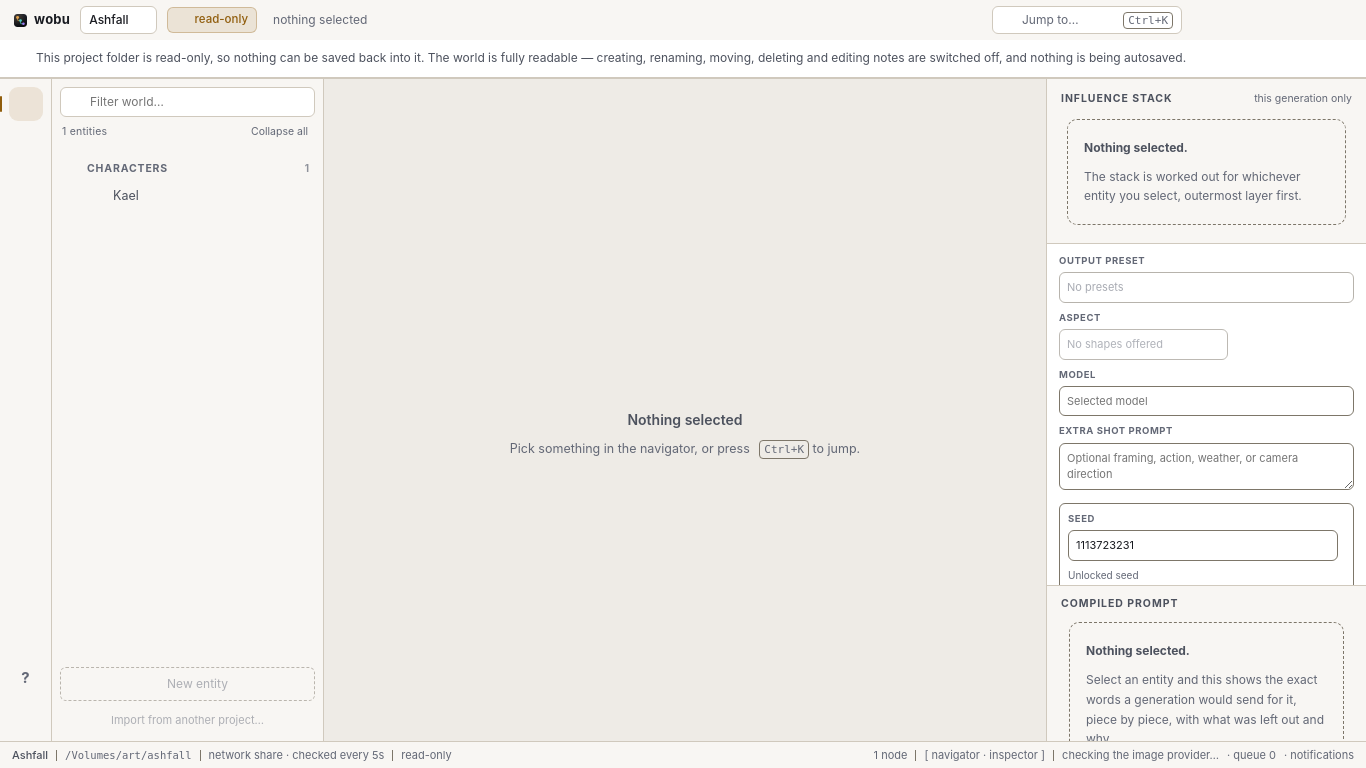
the write controls, on a read-only folder › drops the commands that write from the palette, rather than greying them
Expected: the button "Kael" is shown, x1=60 y1=183 x2=315 y2=211
Click the button "Jump to… Ctrl+K".
click(1087, 20)  # box x1=992 y1=6 x2=1182 y2=34
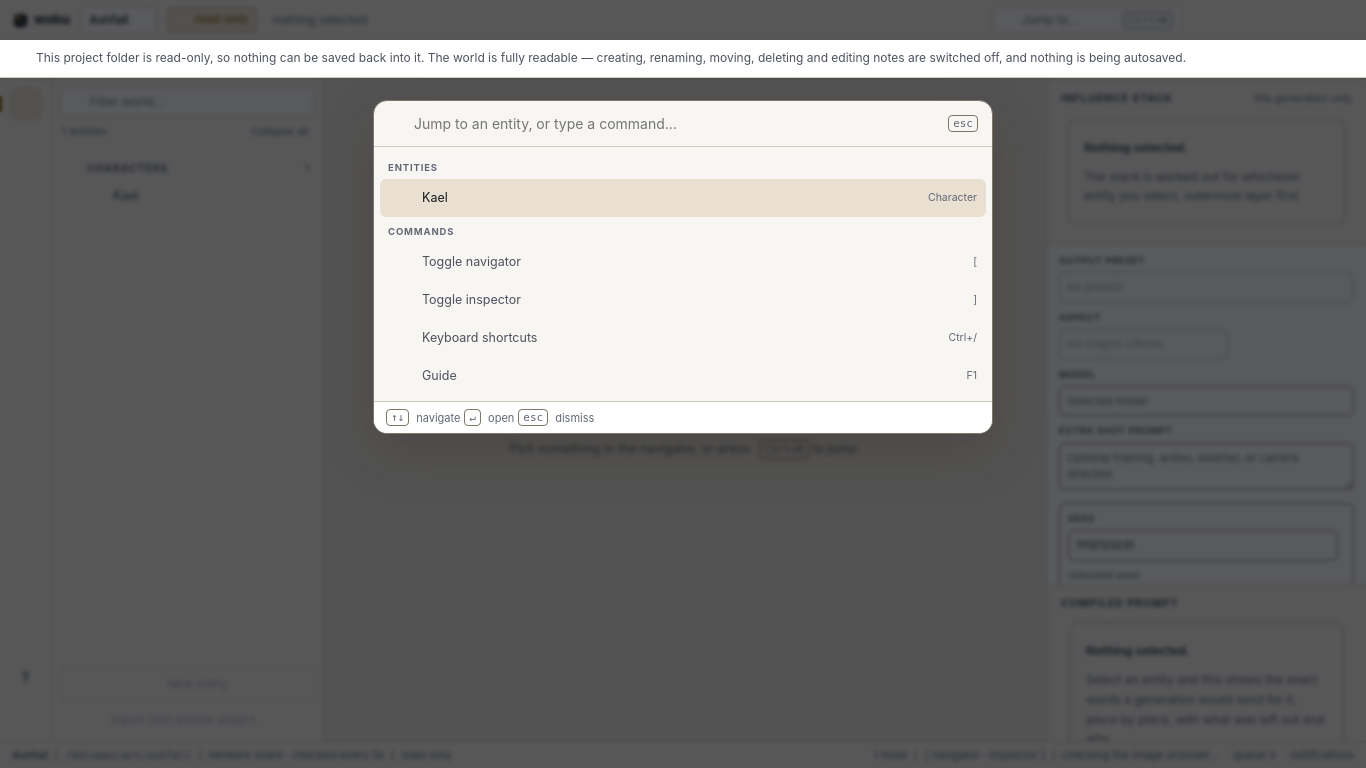
Expected: the button "Toggle navigator [" is shown, x1=380 y1=243 x2=986 y2=281
